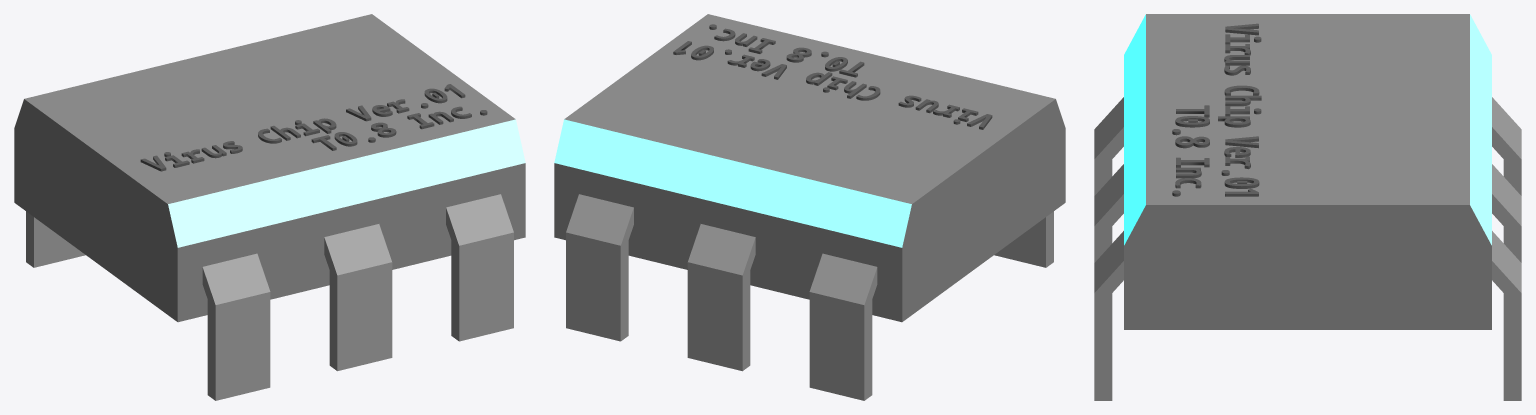
The model's file is V_Chip01.fbx.
3 views of the same model, side by side, from view 1: azimuth 30°, elevation 25°; view 2: azimuth 150°, elevation 25°; view 3: azimuth 270°, elevation 25° (orthographic). The views are drawn at different scales.
Parts seen in each view (by area): view 1: Virus_01; view 2: Virus_01; view 3: Virus_01.
Boxes of the visible parts, x1=… form: Virus_01: x1=14, y1=14, x2=525, y2=400; Virus_01: x1=554, y1=14, x2=1065, y2=400; Virus_01: x1=1094, y1=14, x2=1521, y2=400.
Bounding box in the file's own units: 200 × 104 × 189.
